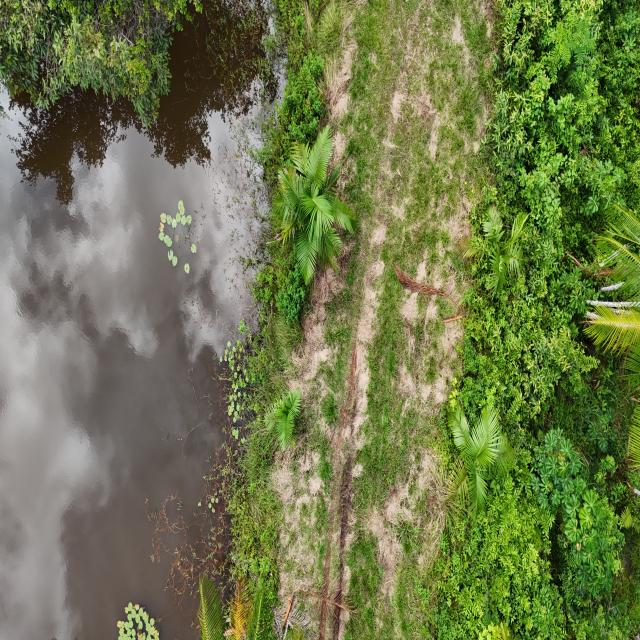vegetation: (271, 123, 356, 286)
